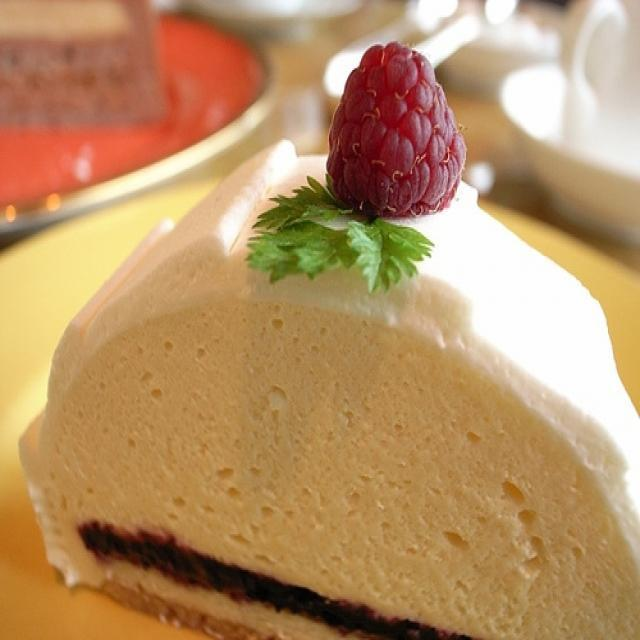Rare cheese cake: (11, 39, 640, 639)
